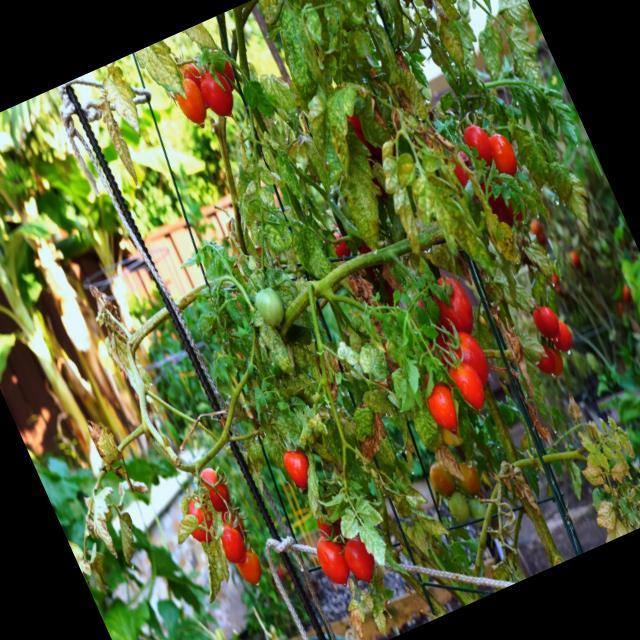Tomato spider mites leaf: (397, 147, 499, 295), (311, 123, 409, 258), (311, 82, 388, 180), (264, 3, 332, 105), (373, 152, 437, 256), (91, 93, 146, 190), (77, 482, 141, 564), (416, 0, 484, 75), (94, 61, 153, 144), (378, 44, 432, 125), (134, 38, 193, 112), (185, 532, 244, 604), (248, 304, 298, 382), (286, 447, 338, 522), (498, 20, 552, 91), (292, 129, 340, 204), (284, 218, 336, 284), (269, 148, 314, 220), (260, 430, 304, 498), (481, 203, 526, 269), (556, 168, 602, 232), (513, 130, 560, 192), (470, 22, 518, 82), (106, 508, 150, 570), (256, 65, 302, 124), (384, 470, 432, 522), (274, 279, 314, 340), (84, 412, 124, 468), (408, 404, 448, 456), (355, 518, 394, 571), (352, 337, 394, 386), (412, 496, 452, 546), (522, 238, 559, 292), (544, 156, 581, 208), (238, 77, 276, 126), (344, 401, 382, 446), (276, 370, 317, 408), (182, 20, 220, 60), (364, 591, 397, 637), (342, 596, 375, 640), (388, 151, 423, 192), (370, 432, 402, 476), (588, 496, 622, 536), (352, 491, 385, 532), (396, 23, 432, 60), (168, 510, 205, 546), (362, 383, 396, 422), (491, 0, 535, 30), (242, 436, 272, 474), (300, 7, 329, 46), (332, 507, 364, 542), (255, 0, 295, 28), (312, 435, 341, 470), (348, 25, 377, 60), (262, 220, 288, 256), (204, 506, 230, 540), (580, 460, 608, 490), (253, 182, 279, 214), (422, 292, 446, 326), (317, 50, 343, 80), (432, 280, 454, 310), (255, 159, 277, 189), (346, 308, 366, 336)
